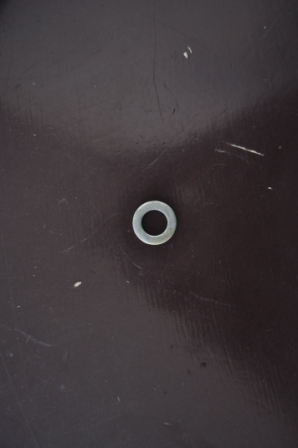METALIC WASHER: (131, 201, 177, 245)
